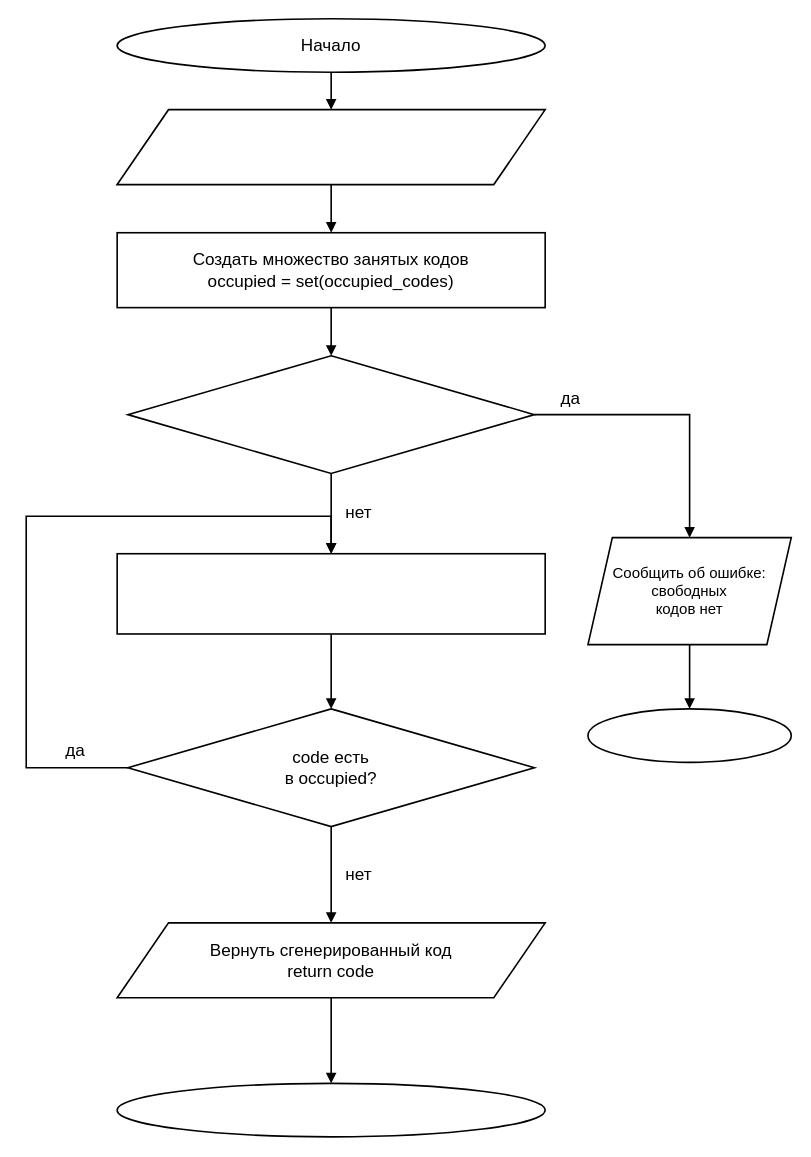
Some shapes in this 811 by 1157 pixel diagram are drawn without their labels. Here are the shapes that lost their labels. From the top down, the centre of each, then its label:
[330,146]: Занятые шестизначные коды occupied_codes
[331,414]: Заняты все 900000 кодов?
[330,593]: Сгенерировать случайный код code = 100000 + randbelow(900000)
[689,735]: Конец: ошибка
[330,1109]: Конец
